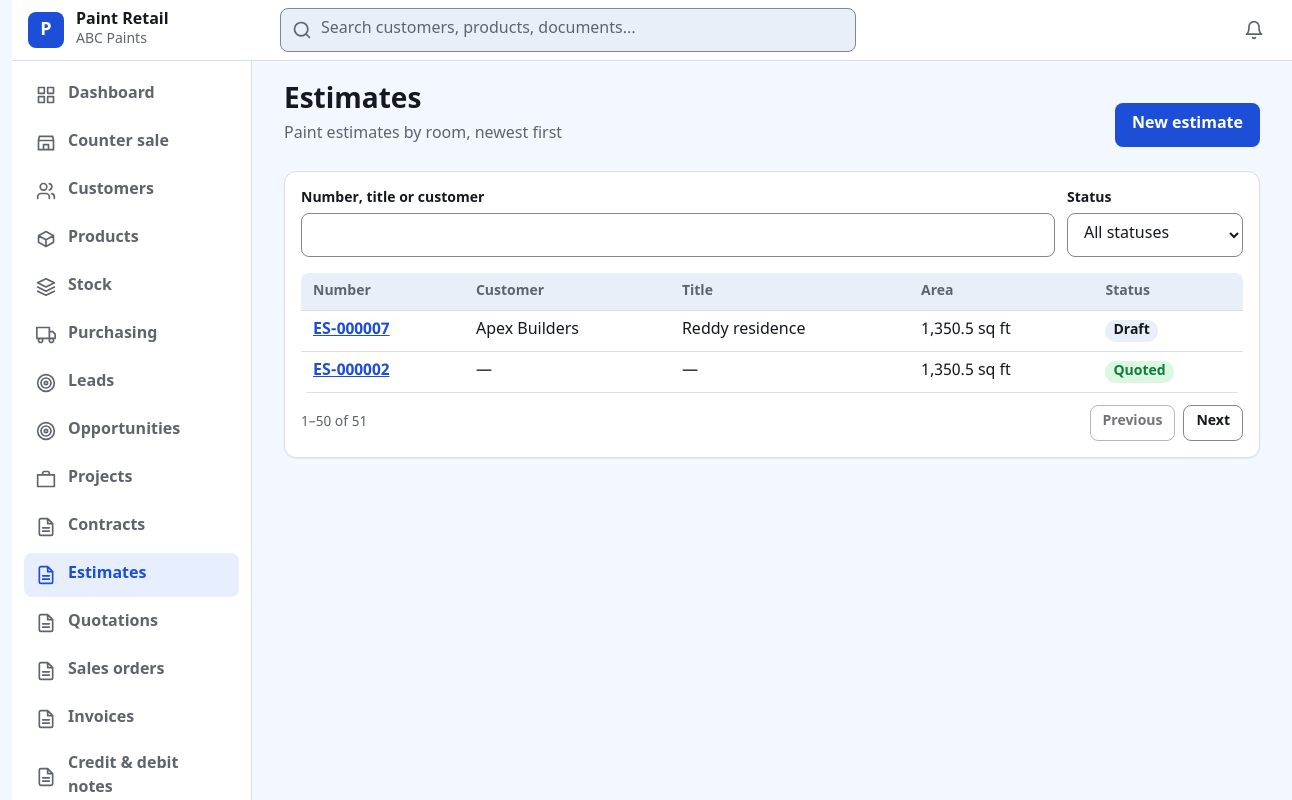
Test case: EstimatesPage › lists estimates with filters and pages, and starts a new one
Expected: the row "ES-000007 Apex Builders Reddy residence 1,350.5 sq ft Draft" is shown, [301,311,1243,351]
Expected: the row "ES-000002 — — 1,350.5 sq ft Quoted" is shown, [301,351,1243,392]
Select "Quoted" in the dropdown labelled "Status" at (1155, 235), box [1067,213,1243,257]
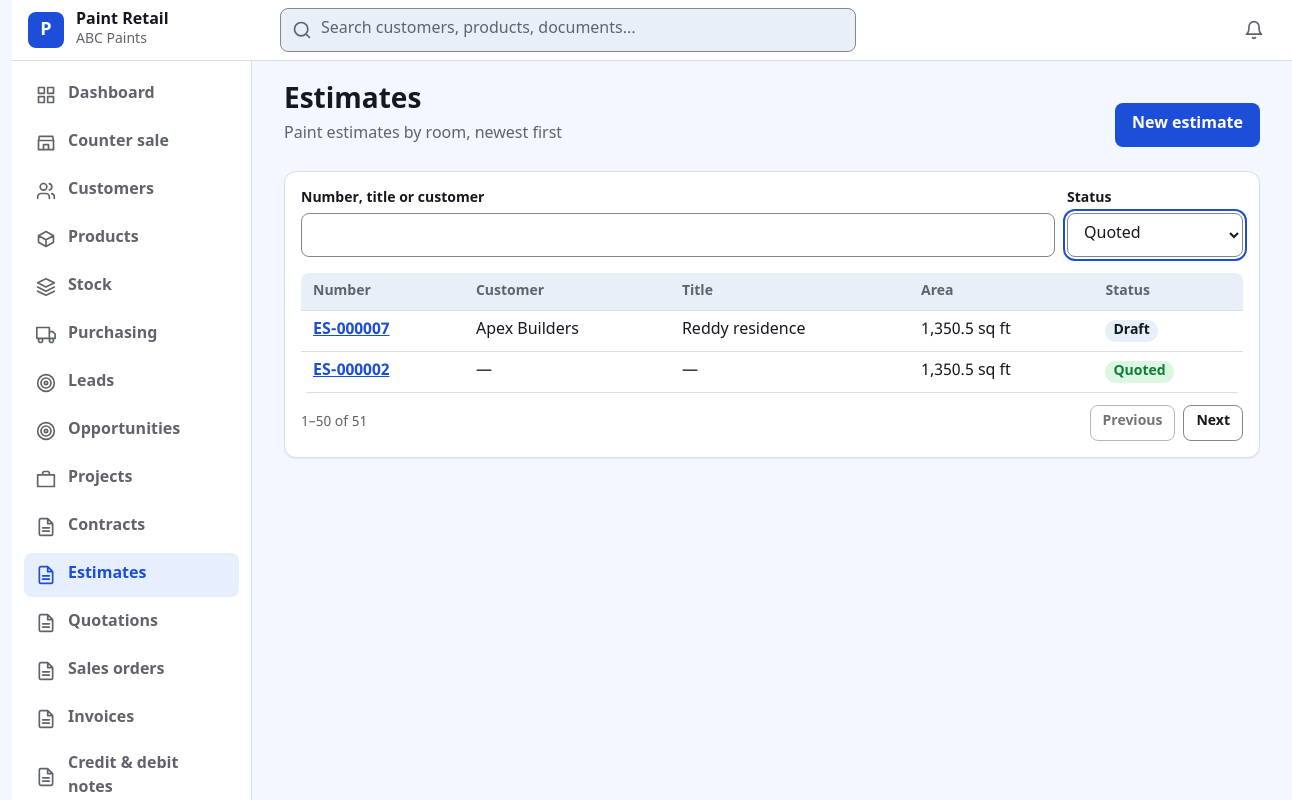
Type "ES" into the search field labelled "Number, title or customer" at (678, 235), box [301,213,1055,257]
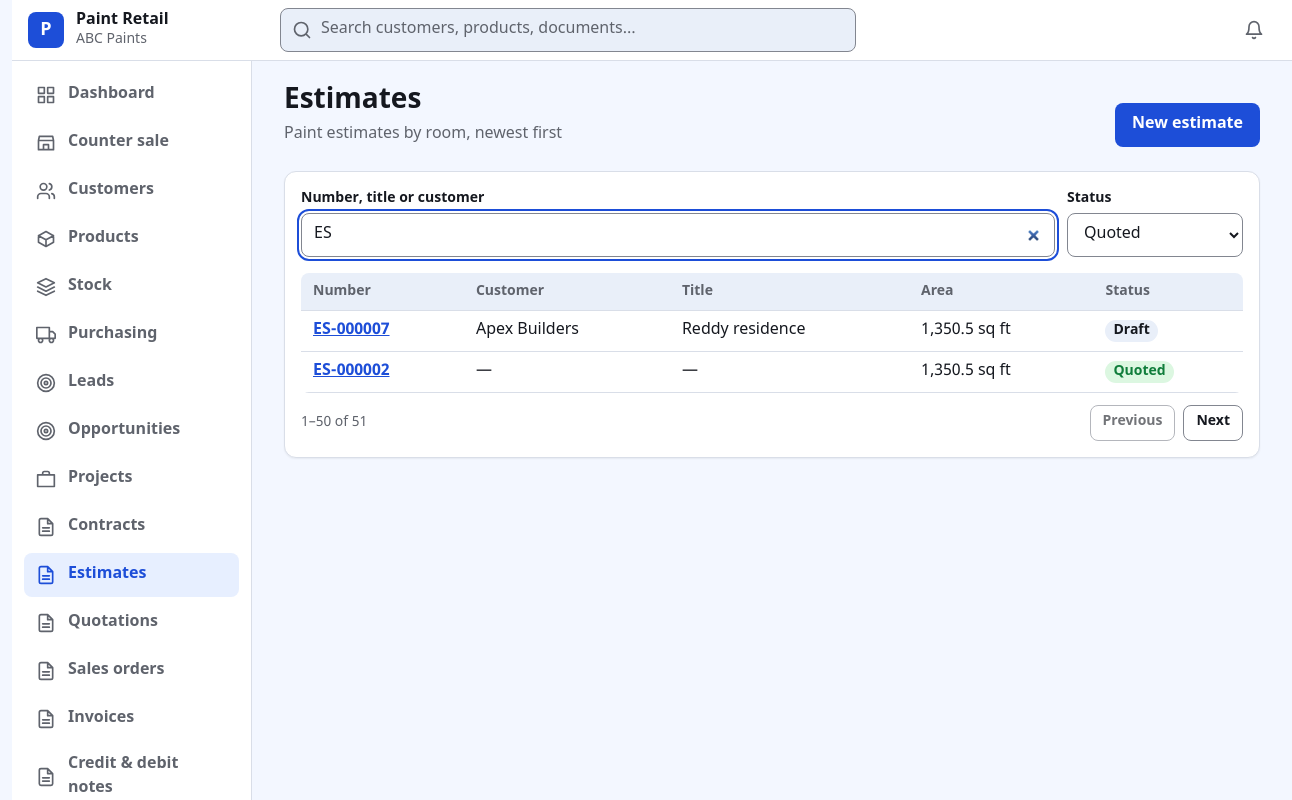
Click the button "Next" at (1213, 423), box [1184,405,1243,441]
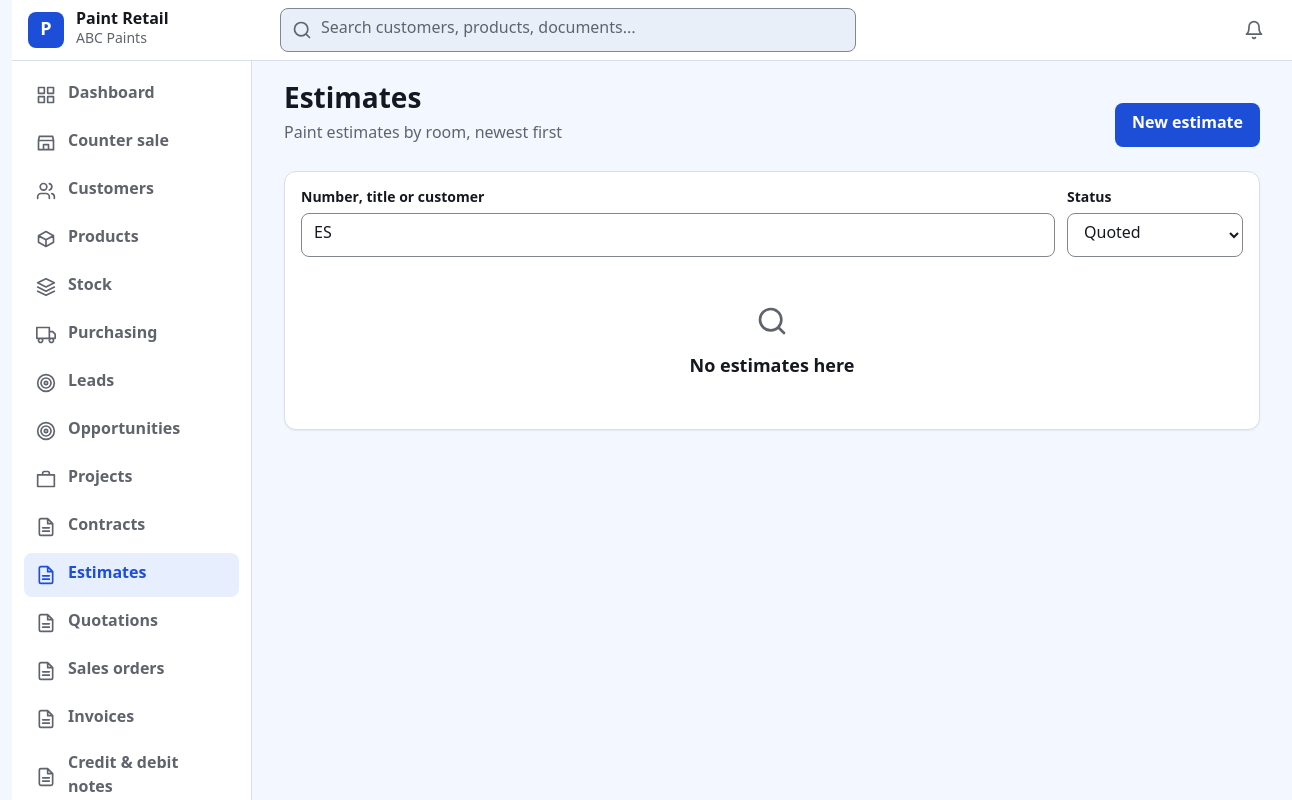
Result: the text "No estimates here" is shown at [690,354,854,381]
Click the link "New estimate" at (1188, 125), box [1115,103,1260,147]
(page scrolled)
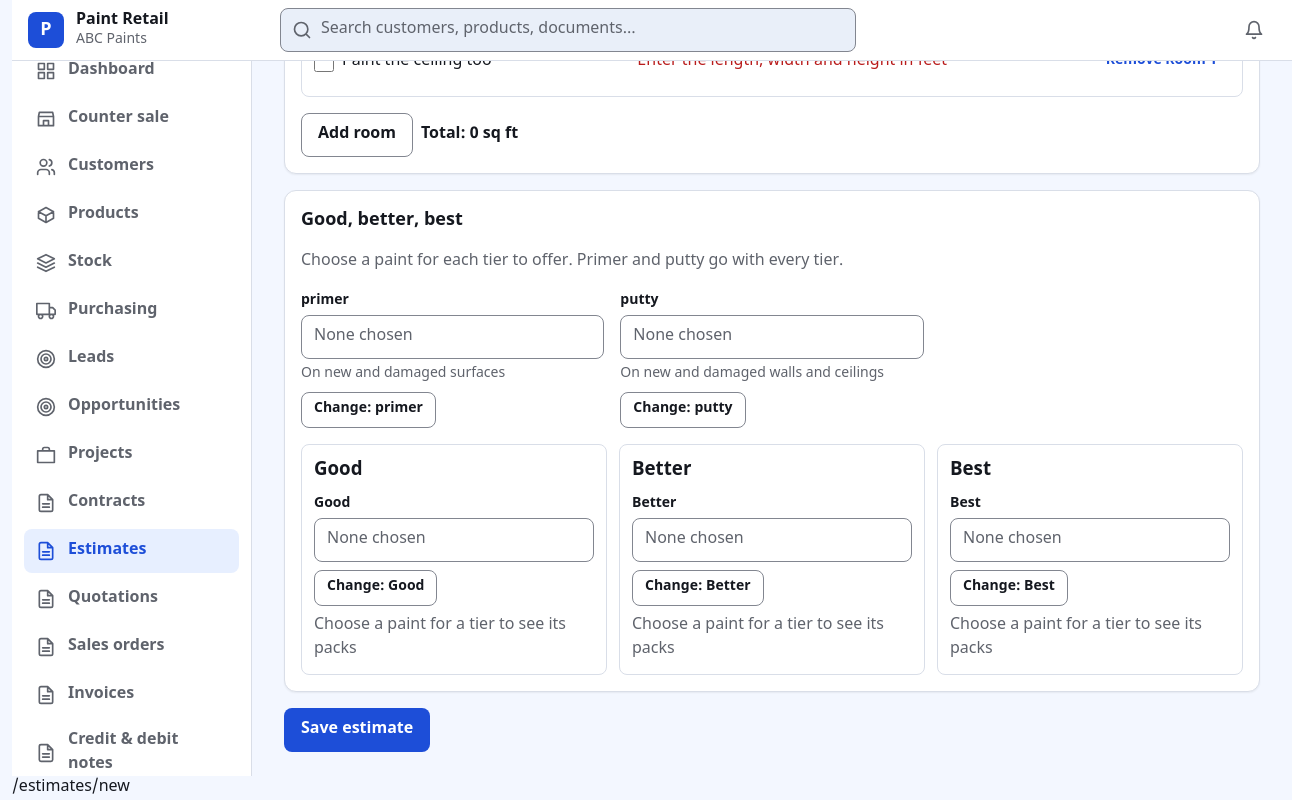
Result: the text with test id "location" reads "/estimates/new" at [12,777,130,798]
